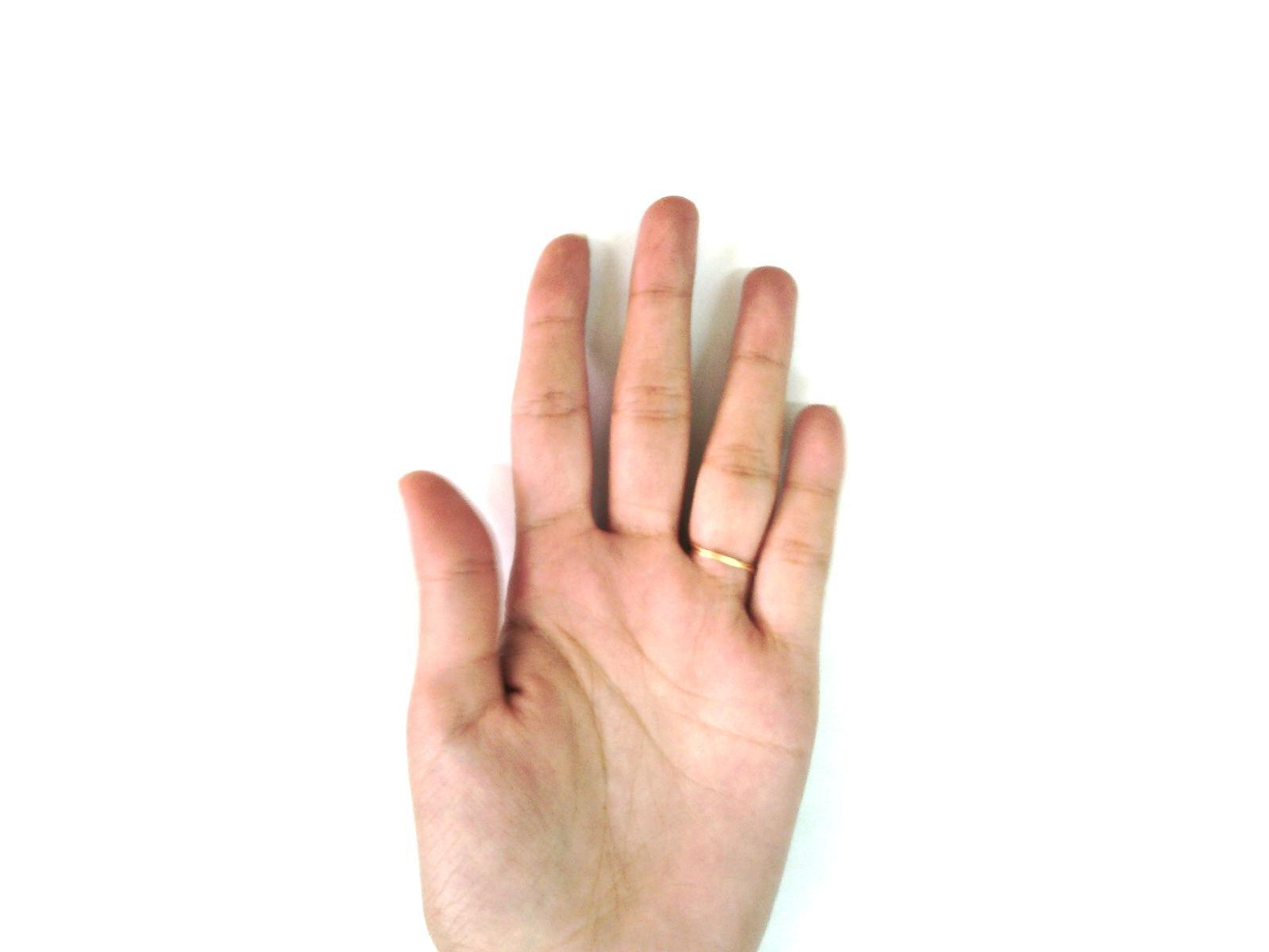open_palm: (396, 194, 849, 951)
